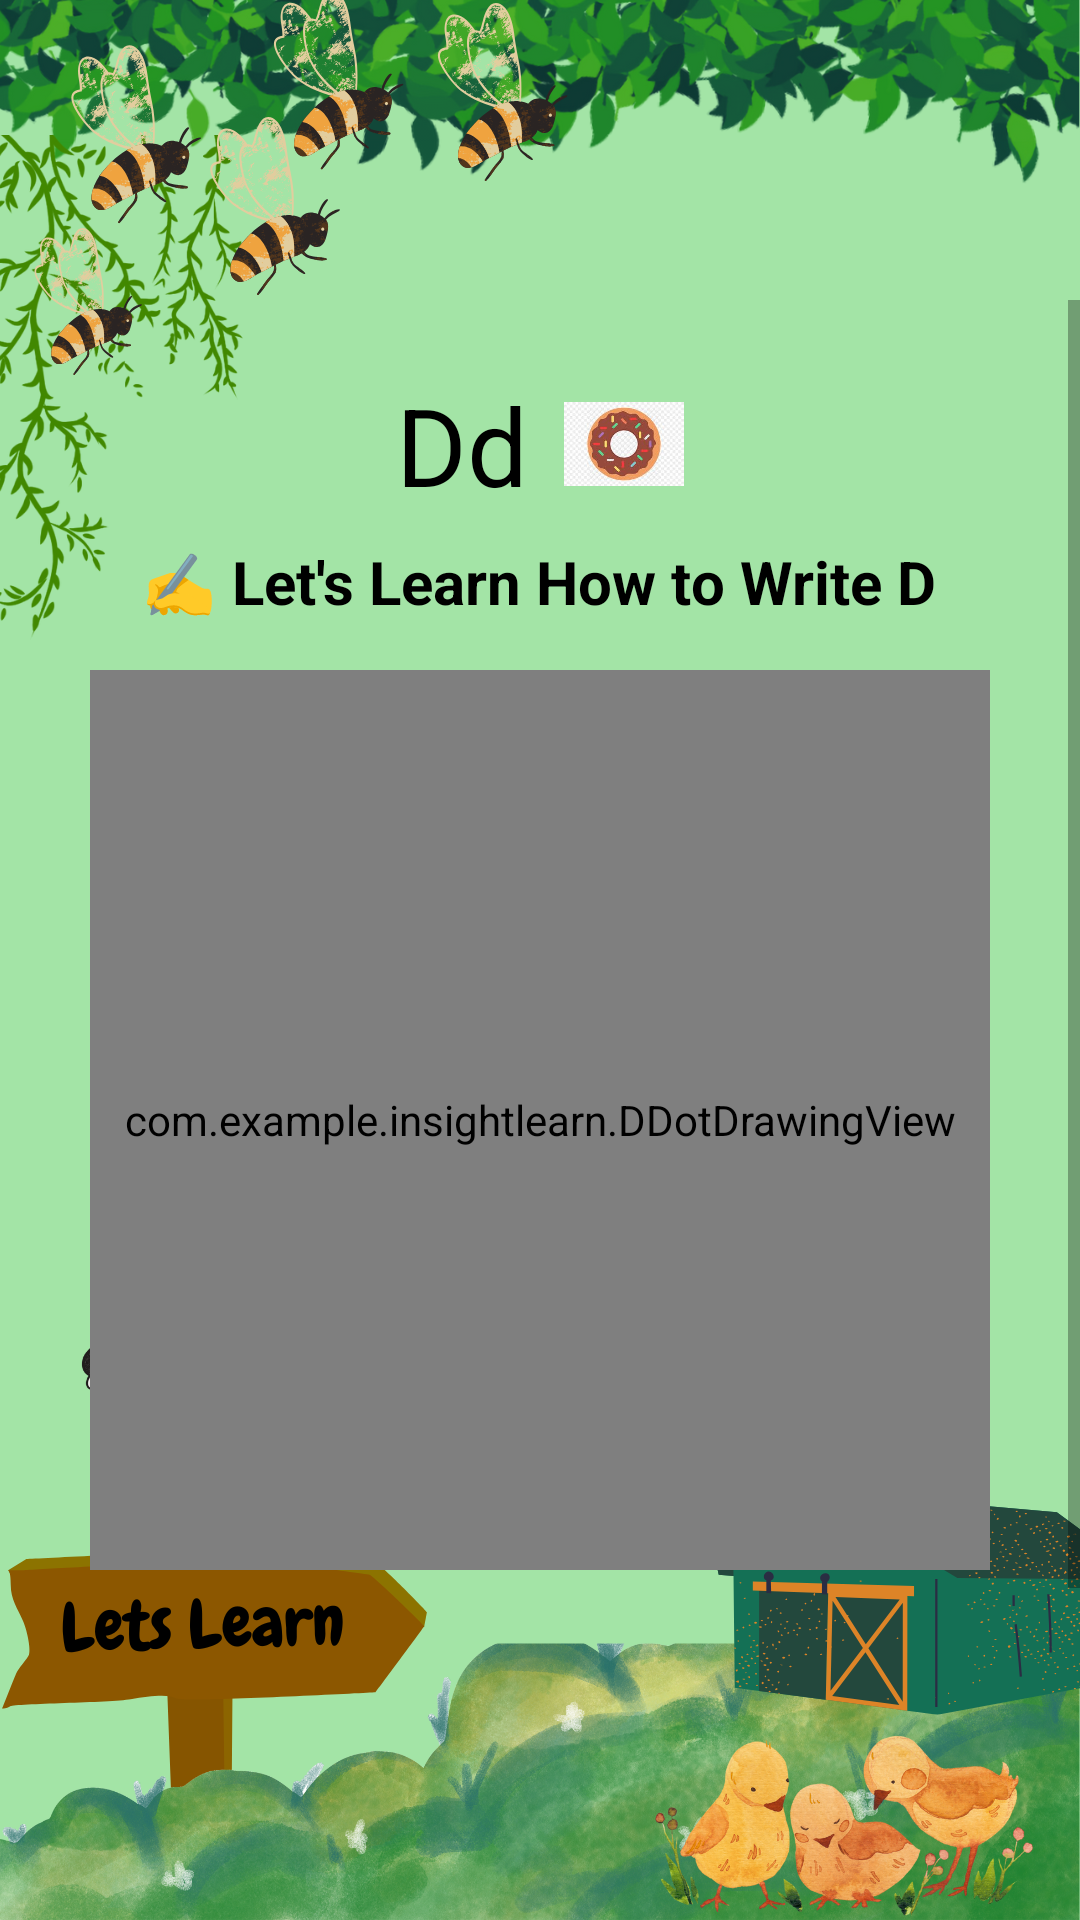

Locate icon controls on the screen. Image size 1080x1920, boxes as (x1, y1, x2, y2).
Donut: (564, 402, 684, 486)
